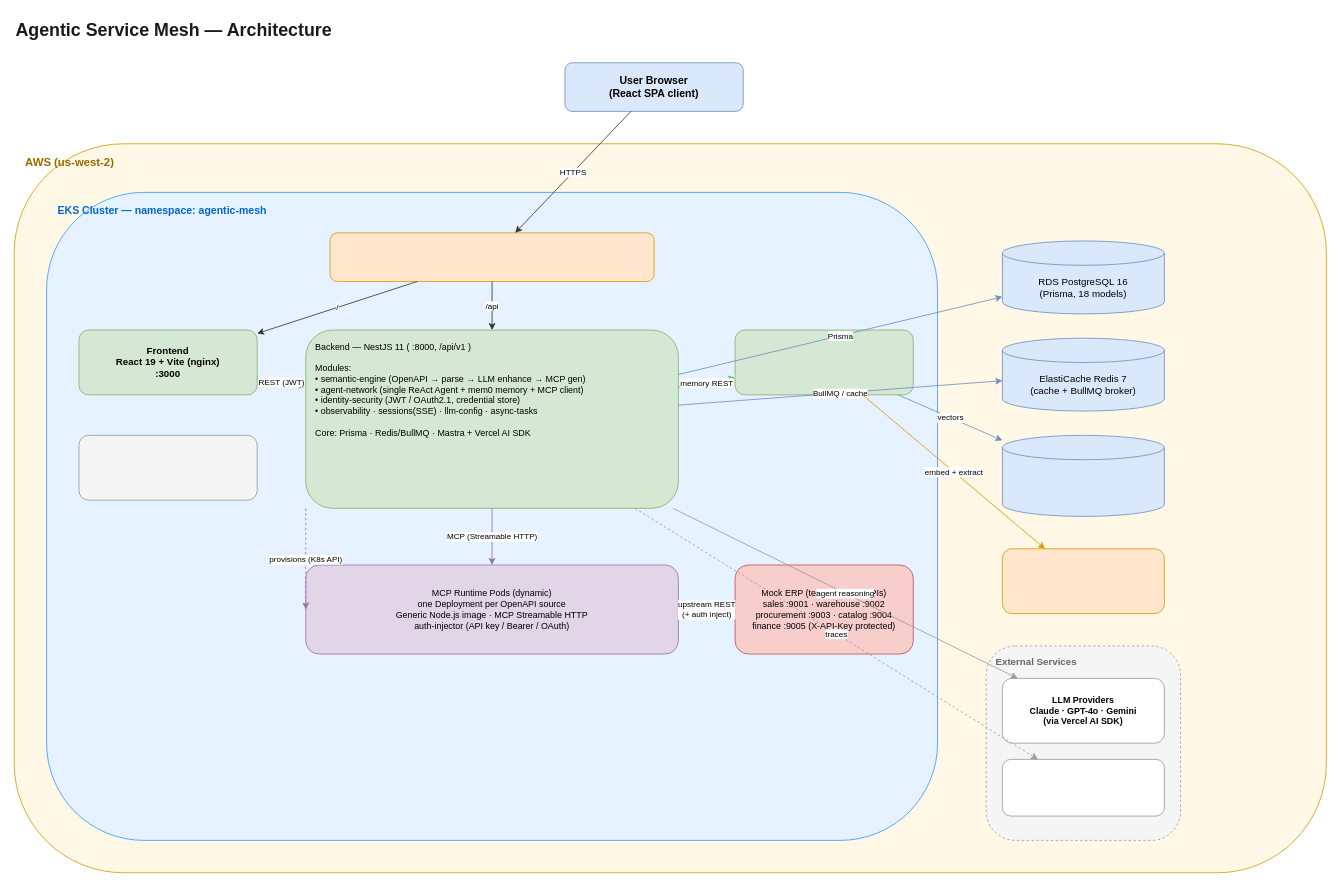
The diagram is 1341 pixels wide and 887 high, and some of its shapes have lost their labels. Each missing label, with the centre of its shape:
ALB Ingress Controller ( / → frontend, /api → backend ): the point at 491,256
AWS Bedrock Titan Embed V2 (1024d) Claude Sonnet (extraction): the point at 1083,581
Langfuse Cloud (LLM execution tracing): the point at 1083,787
mem0 Service Agent memory (Python) :8080: the point at 823,362
OpenSearch 2.13 (mem0 vector store, index: agent_memories): the point at 1083,475
Prometheus :9090 · Grafana (monitoring, via ALB /grafana): the point at 167,467
